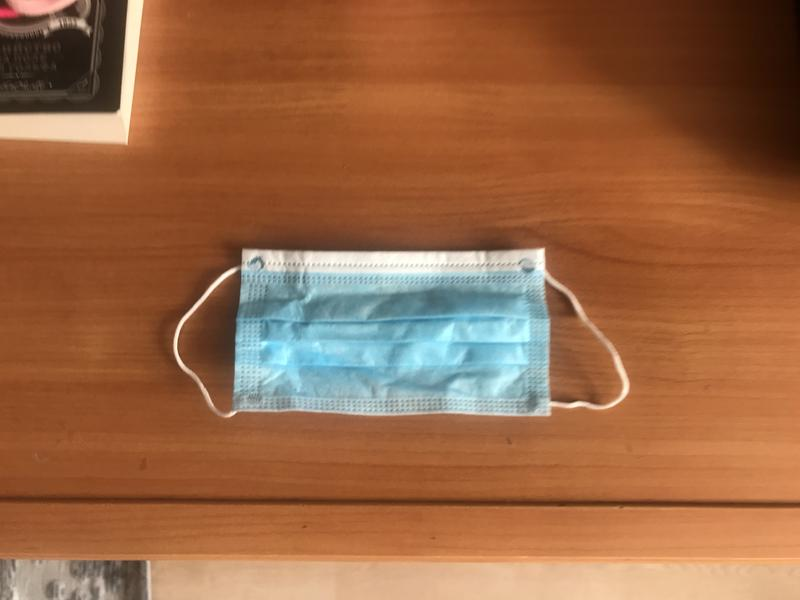medical_mask: (172, 247, 630, 419)
